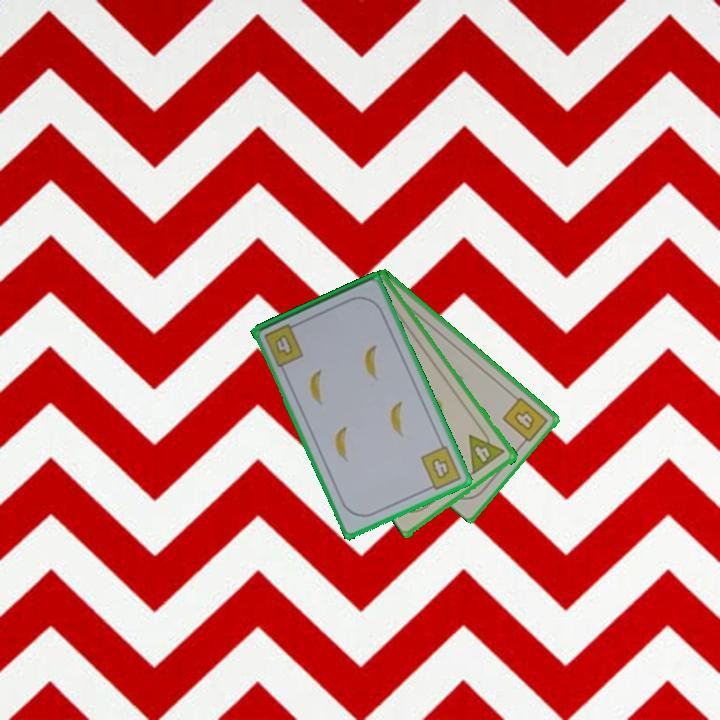4b: (499, 393, 551, 449), (417, 442, 465, 494), (260, 319, 307, 370)
4p: (465, 424, 508, 476)
